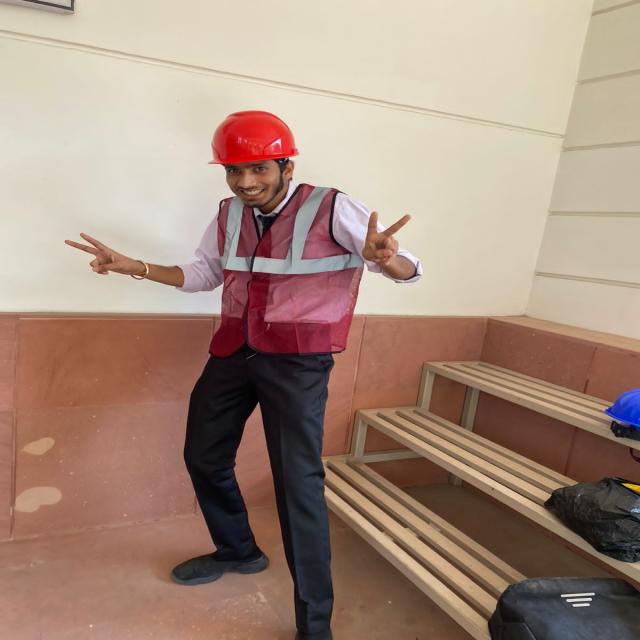safe: (182, 111, 364, 640)
